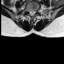CCS_normal: (31, 8, 33, 18)
LFS_normal: (35, 7, 37, 13)
LLS_normal: (33, 8, 35, 16)
RFS_normal: (27, 7, 29, 13)
RLS_normal: (29, 8, 31, 16)
